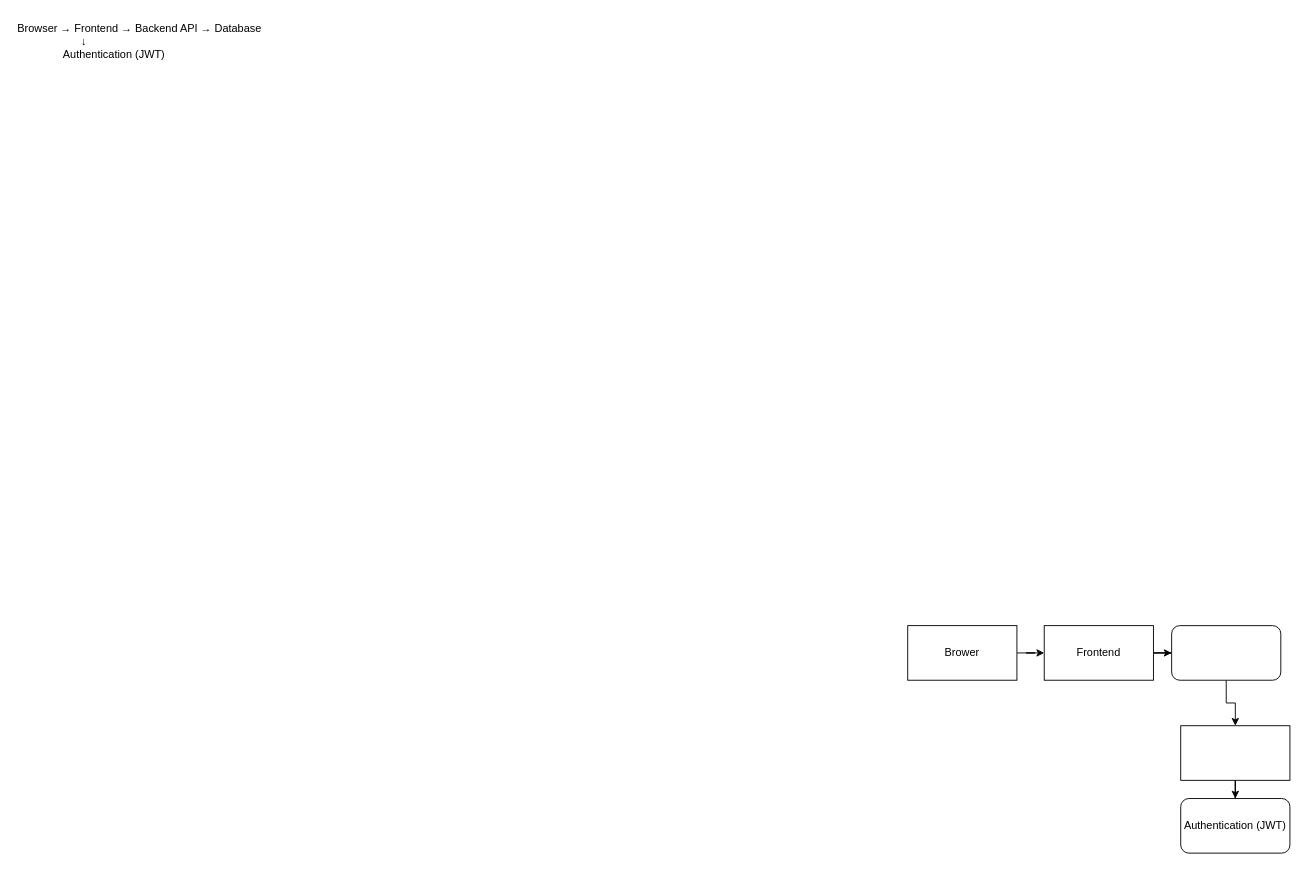
This 1306x869 diagram has some shape labels left out. The box of each missing label's shape, as (x1, y1, x2, y2) in pixels:
BackendAPI: (1171, 625, 1281, 680)
Database: (1180, 725, 1290, 780)
